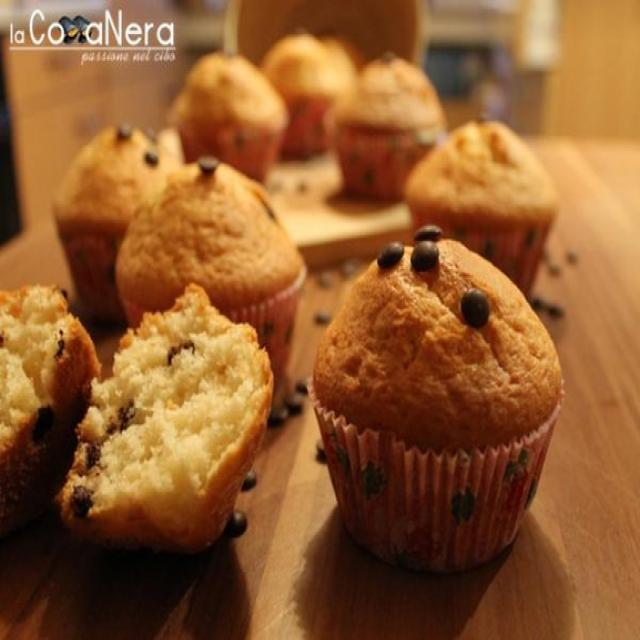炸货点心: (5, 2, 636, 634)
面包点心: (5, 2, 636, 634)
